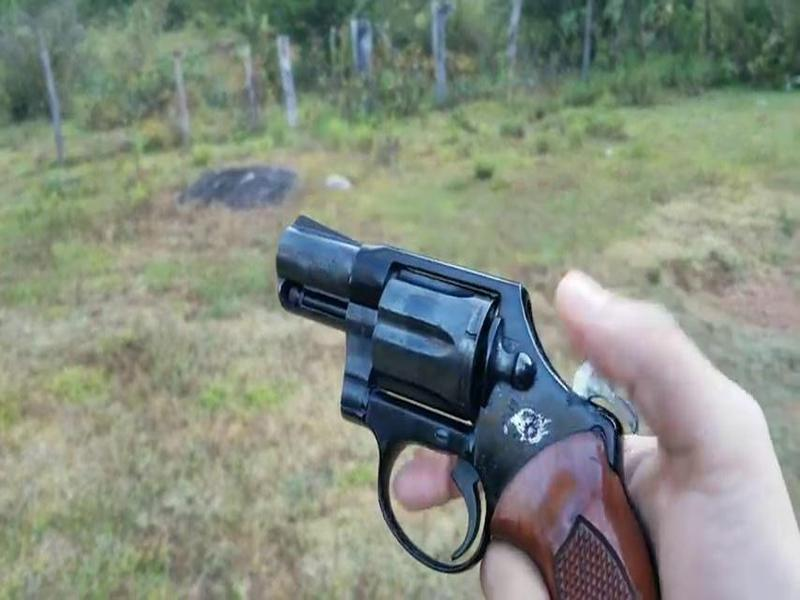Revolver: (227, 217, 672, 600)
